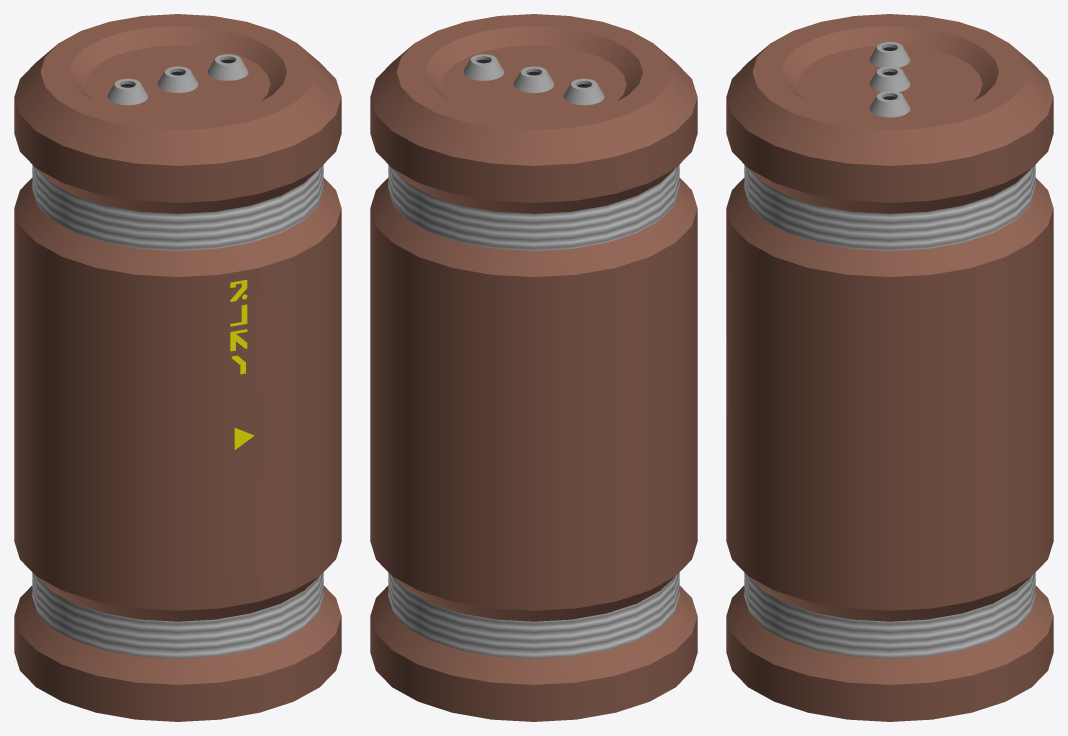
File: Tank.fbx
3 renders of one model, left to right at view 1: azimuth 30°, elevation 25°; view 2: azimuth 150°, elevation 25°; view 3: azimuth 270°, elevation 25°, orthographic.
Parts seen in each view (by area): view 1: Cargo_Cylinder_Tall1_1, c_r_y_o1; view 2: Cargo_Cylinder_Tall1_1; view 3: Cargo_Cylinder_Tall1_1.
Part boxes in pixels (x1,y1,x2,y2): Cargo_Cylinder_Tall1_1: (14,14,341,721); c_r_y_o1: (230,279,247,374); Cargo_Cylinder_Tall1_1: (370,14,697,721); Cargo_Cylinder_Tall1_1: (726,14,1053,721).
Size of the model in its own units: 48 by 94 by 48.
